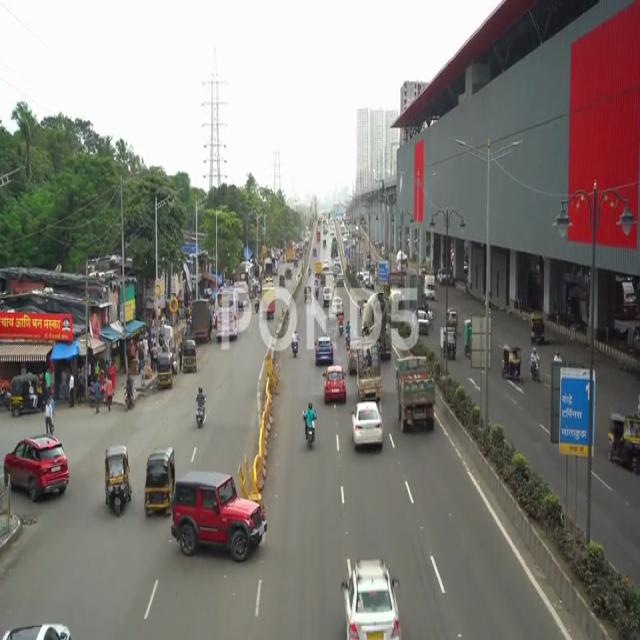car: (172, 475, 265, 558), (341, 554, 412, 640), (2, 438, 70, 503), (350, 399, 388, 451), (322, 363, 347, 403), (316, 334, 334, 360)
motorbike: (300, 397, 319, 457), (192, 384, 208, 437), (529, 342, 543, 388)
rikshaw: (100, 440, 131, 523), (608, 410, 640, 478), (145, 452, 176, 515), (501, 339, 523, 384)
truck: (391, 352, 437, 434)
